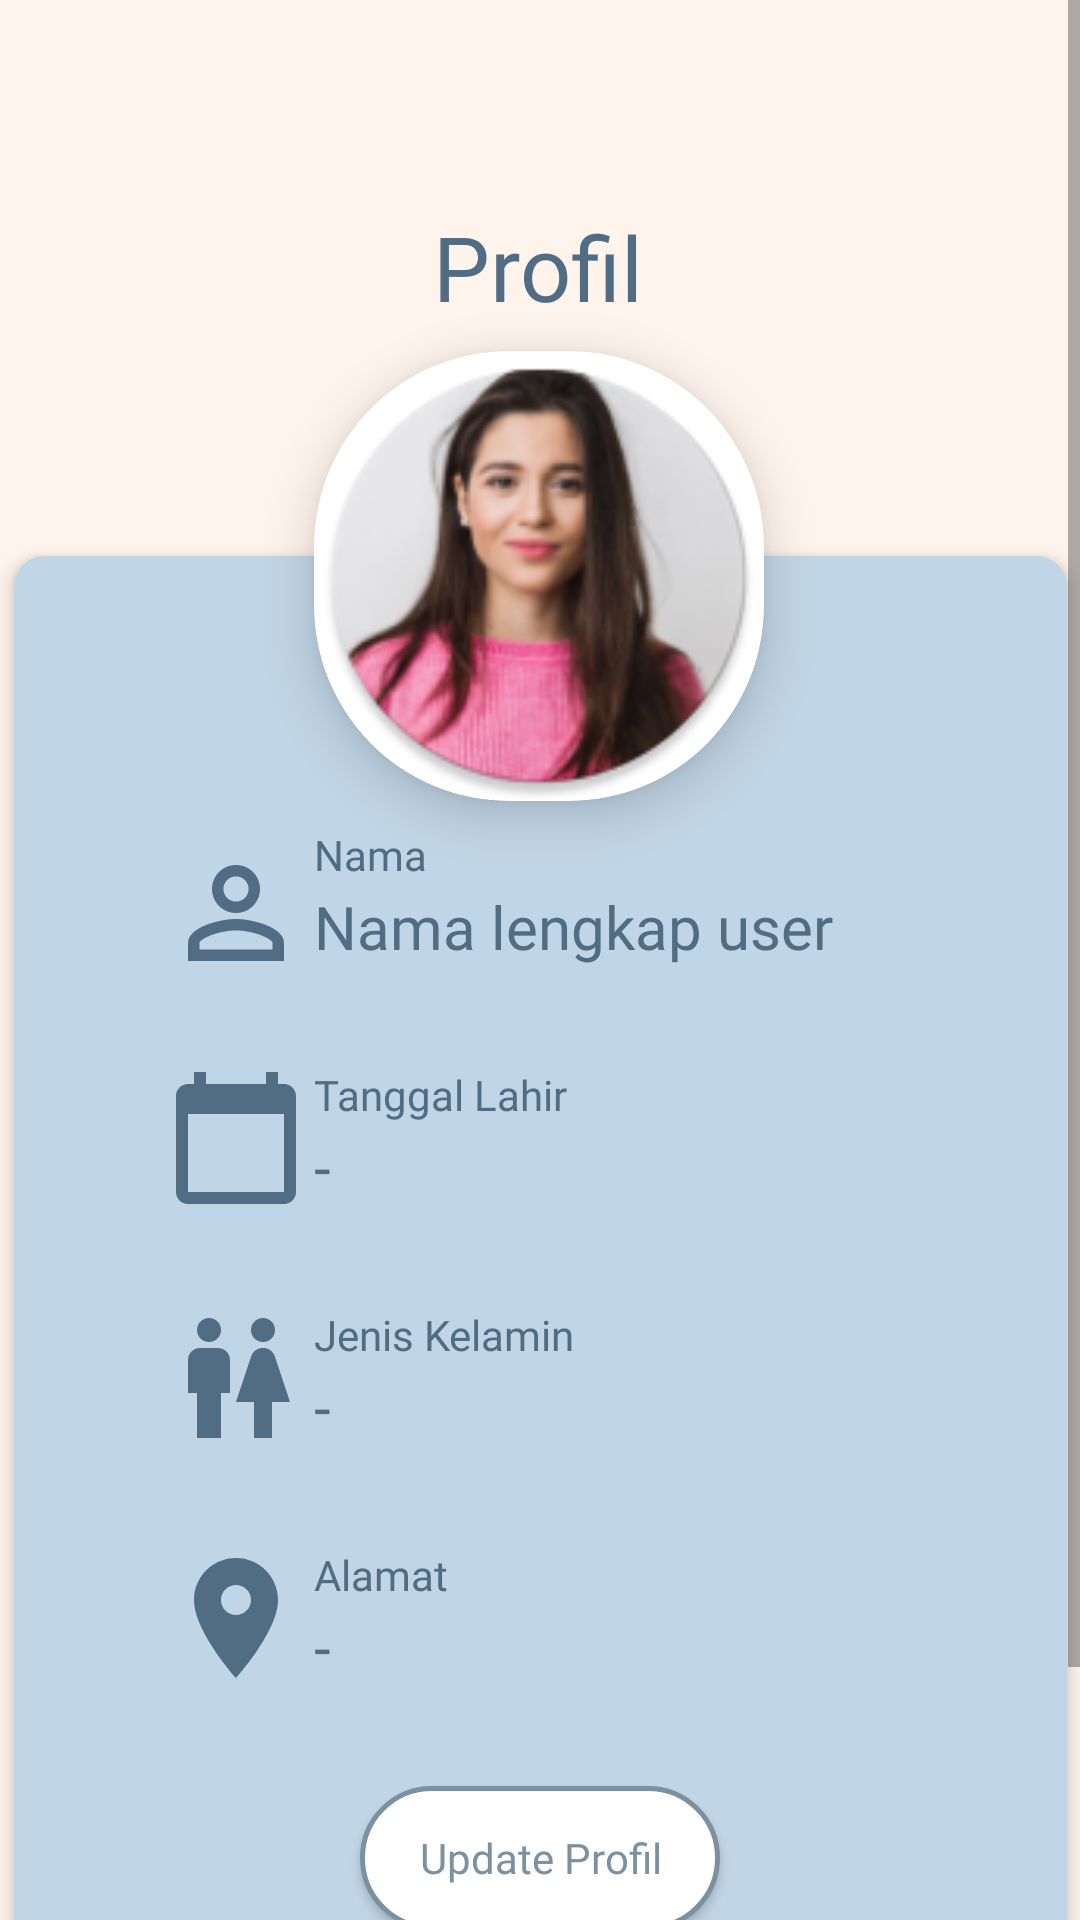

Screen size 1080*1920. Icon name, then its center in pixels as (x,y):
vcalendar: (236,1138)
vgender: (239,1378)
vloc: (236,1618)
vprofil: (236,913)
